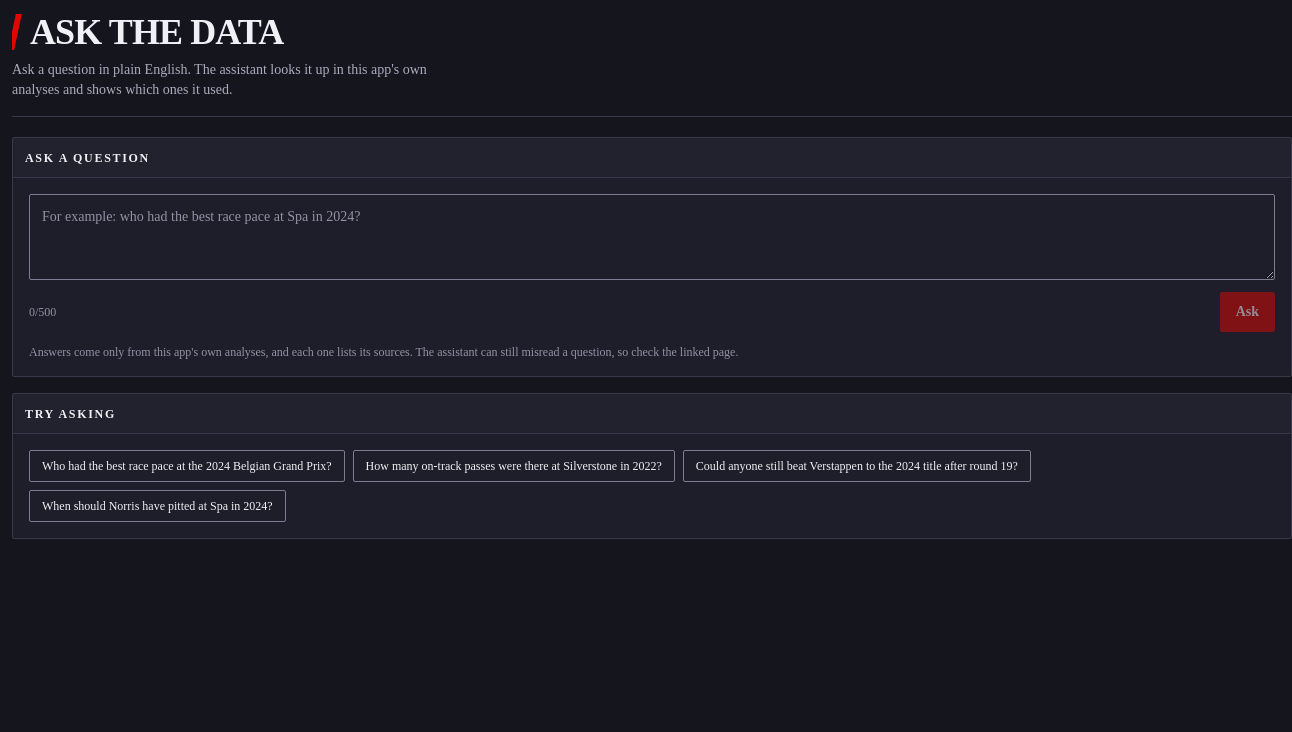
AskPage › posts the question, then shows it with its answer and linked sources
Step 1. Type "Who had the best pace?" into the text box named "Your question" → (652, 237), box [29, 194, 1275, 280]
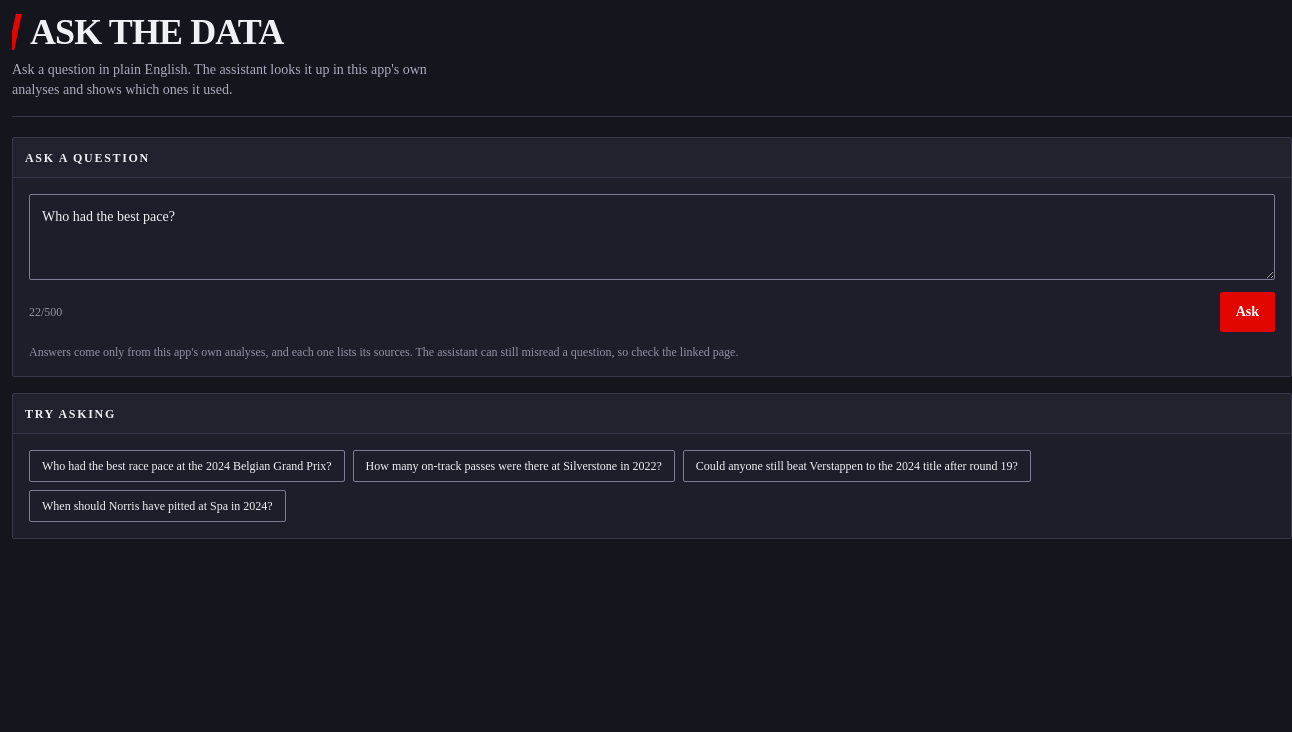
Step 2. Click the button "Ask" → (1247, 312), box [1220, 292, 1275, 332]
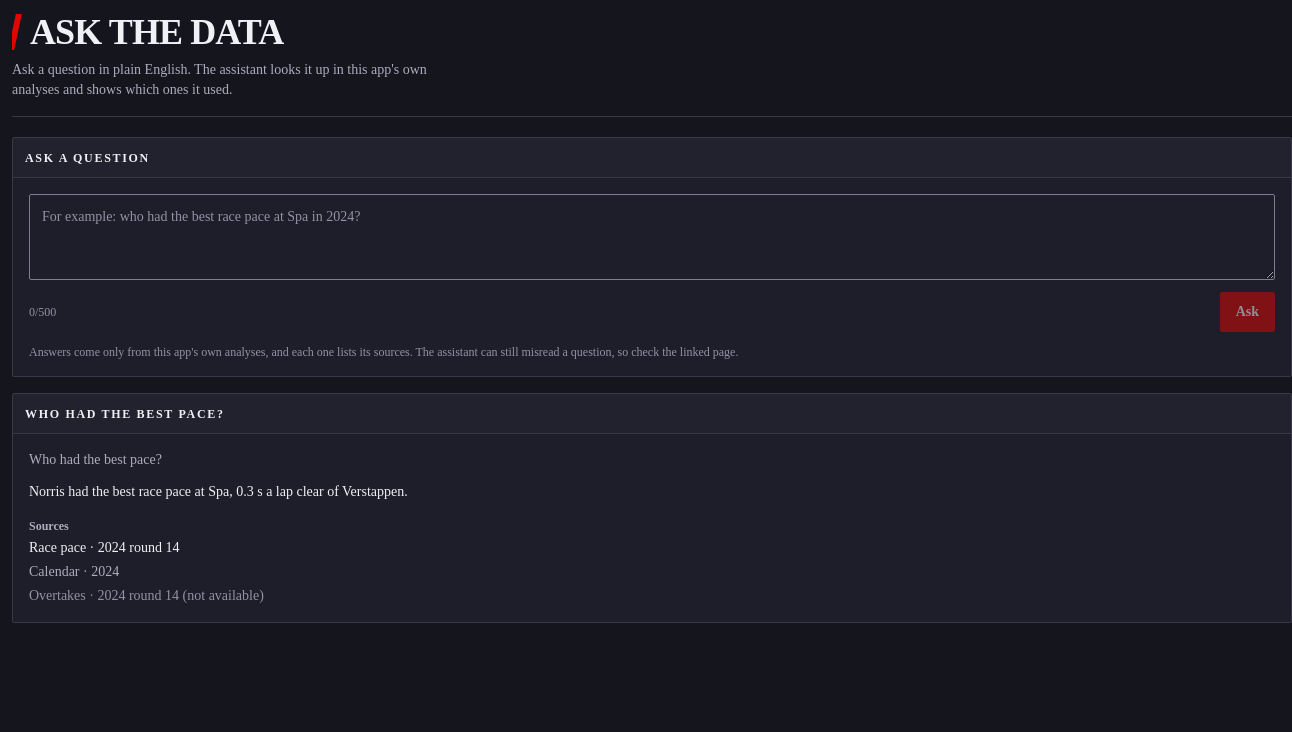
Now the element "Who had the best pace?" is shown, box [12, 393, 1291, 623]
Now the text box named "Your question" is empty, box [29, 194, 1275, 280]
Now the list item "Calendar · 2024" is shown, box [29, 564, 119, 579]
